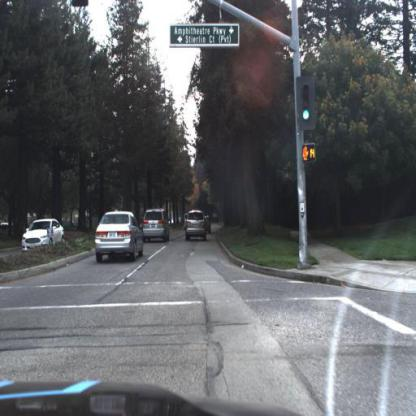car: (90, 206, 146, 264), (18, 213, 70, 253), (17, 216, 64, 256), (140, 206, 170, 247), (182, 207, 209, 243), (200, 207, 212, 236), (201, 214, 214, 237)
trafficLight-Green: (296, 74, 314, 132)
